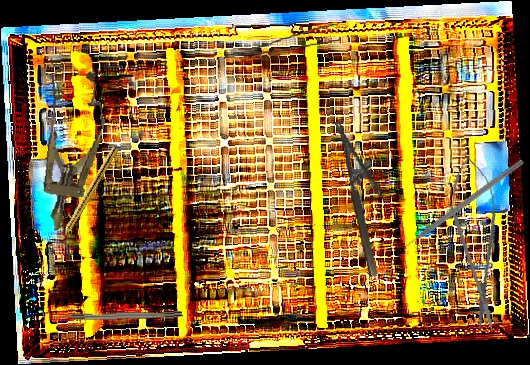Chopper: (392, 152, 525, 254)
Handpiece: (56, 145, 119, 244)
Hook Surgical: (50, 311, 183, 321)
Micro Scissor: (445, 151, 509, 336)
Needle Holder: (334, 115, 399, 278)
Speculum: (25, 62, 113, 236)
Tissue Forceps: (221, 23, 342, 59)
